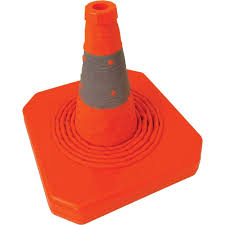cones: (21, 1, 205, 221)
